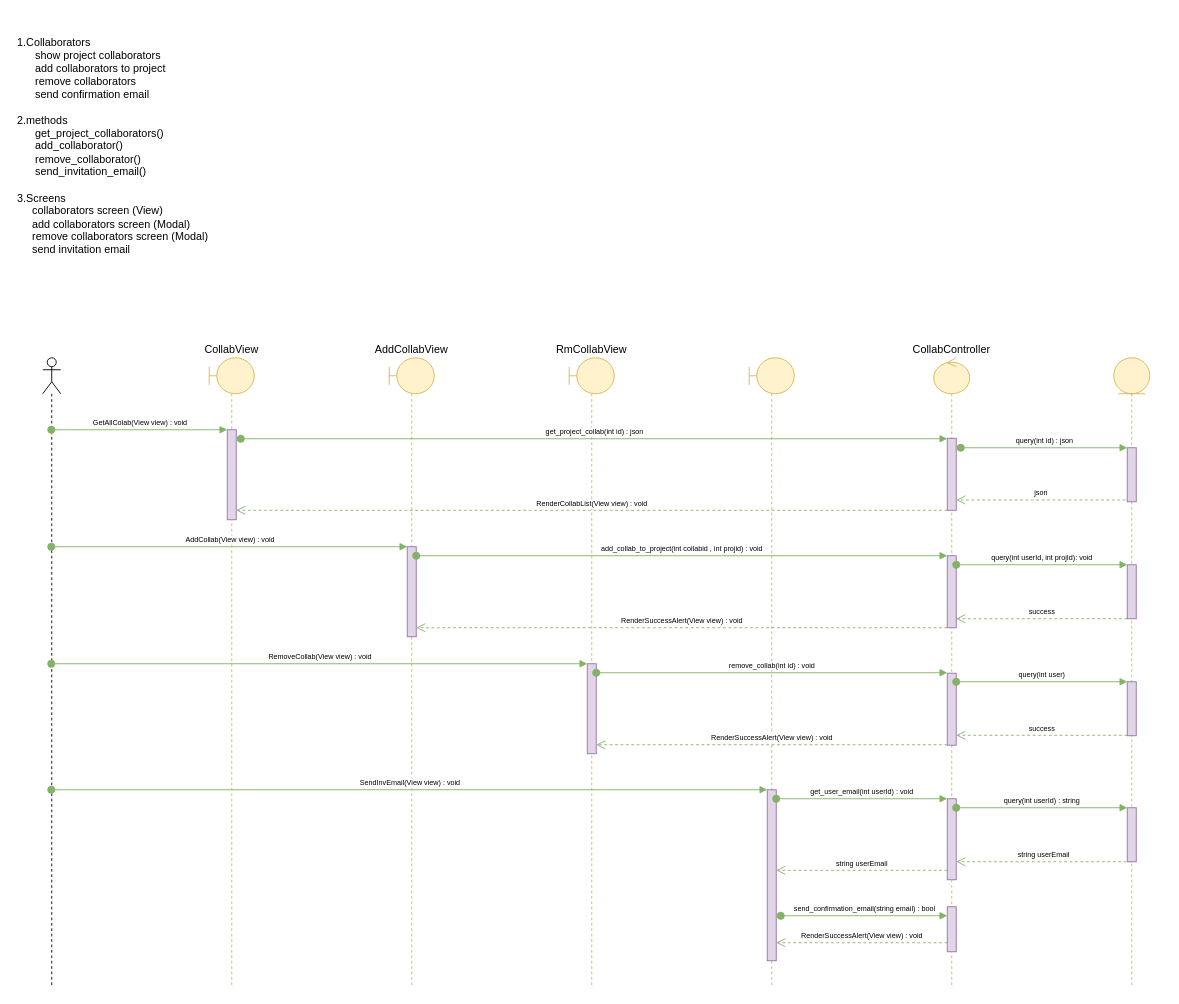
The diagram is 1179 pixels wide and 1004 high, and some of its shapes have lost their labels. The box of each missing label's shape, as (x1, y1, x2, y2) in pixels:
Collaborators: (1113, 357, 1150, 988)
SendInvEmailView: (748, 357, 794, 988)
